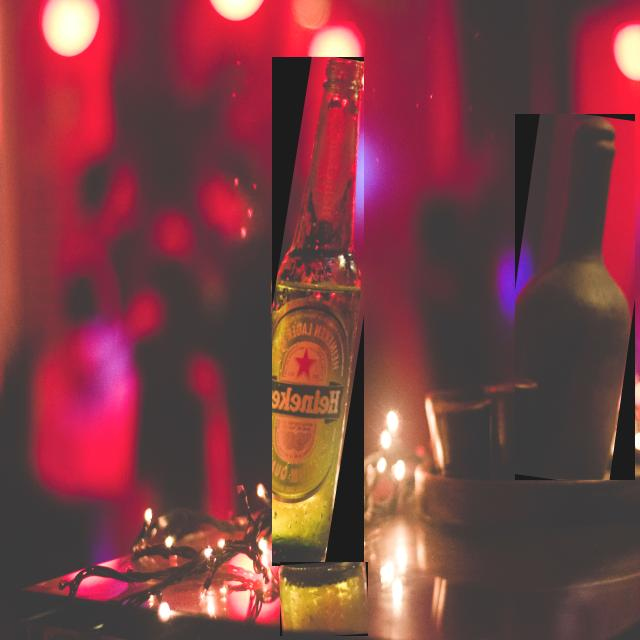Bottle: (271, 58, 363, 565), (514, 115, 633, 479), (279, 563, 366, 636)
